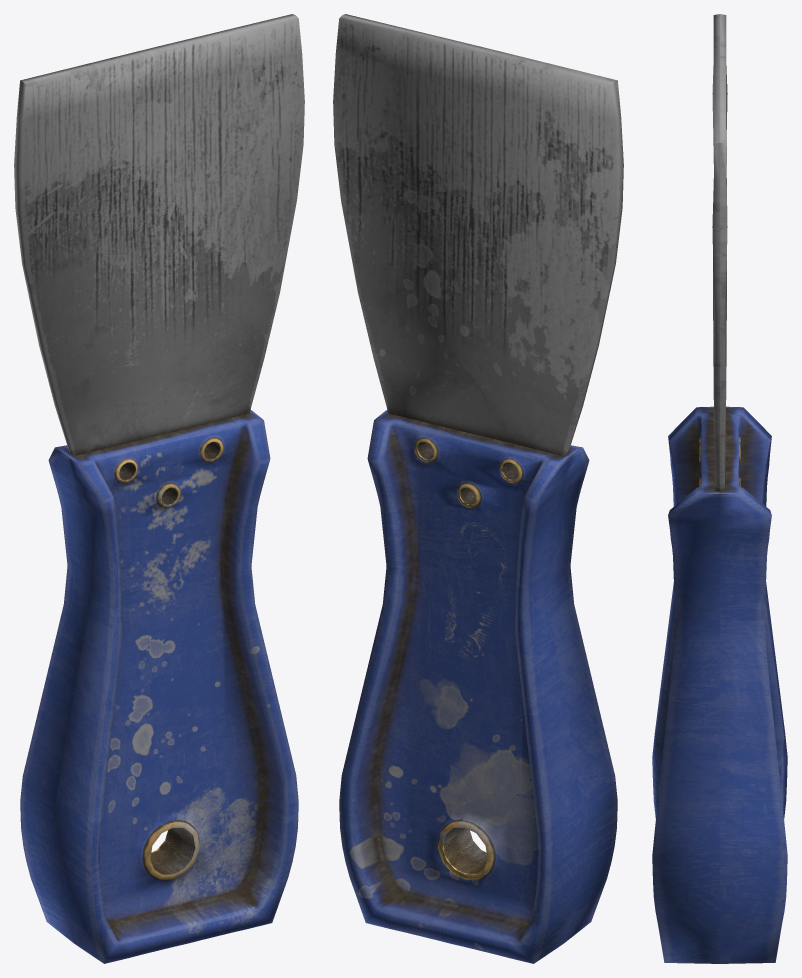
File: plaster_spatula.obj
3 views of the same model, side by side, from view 1: azimuth 30°, elevation 25°; view 2: azimuth 150°, elevation 25°; view 3: azimuth 270°, elevation 25° (orthographic). The views are drawn at different scales.
Visible parts, largest first — view 1: g_Shpatel_meshId0_name; view 2: g_Shpatel_meshId0_name; view 3: g_Shpatel_meshId0_name.
Boxes of the visible parts, box(x1,y1,x2,y2) form: g_Shpatel_meshId0_name: box(14, 14, 304, 963); g_Shpatel_meshId0_name: box(333, 14, 623, 963); g_Shpatel_meshId0_name: box(652, 14, 787, 963).
Size of the model in its own units: 0.068 by 0.2 by 0.029.
Materials: 1 (1 with a texture image).
